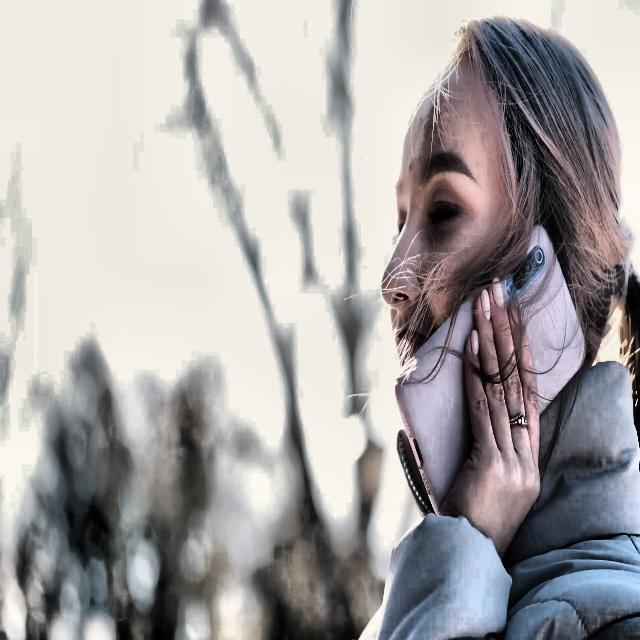Phone: (391, 217, 590, 520)
